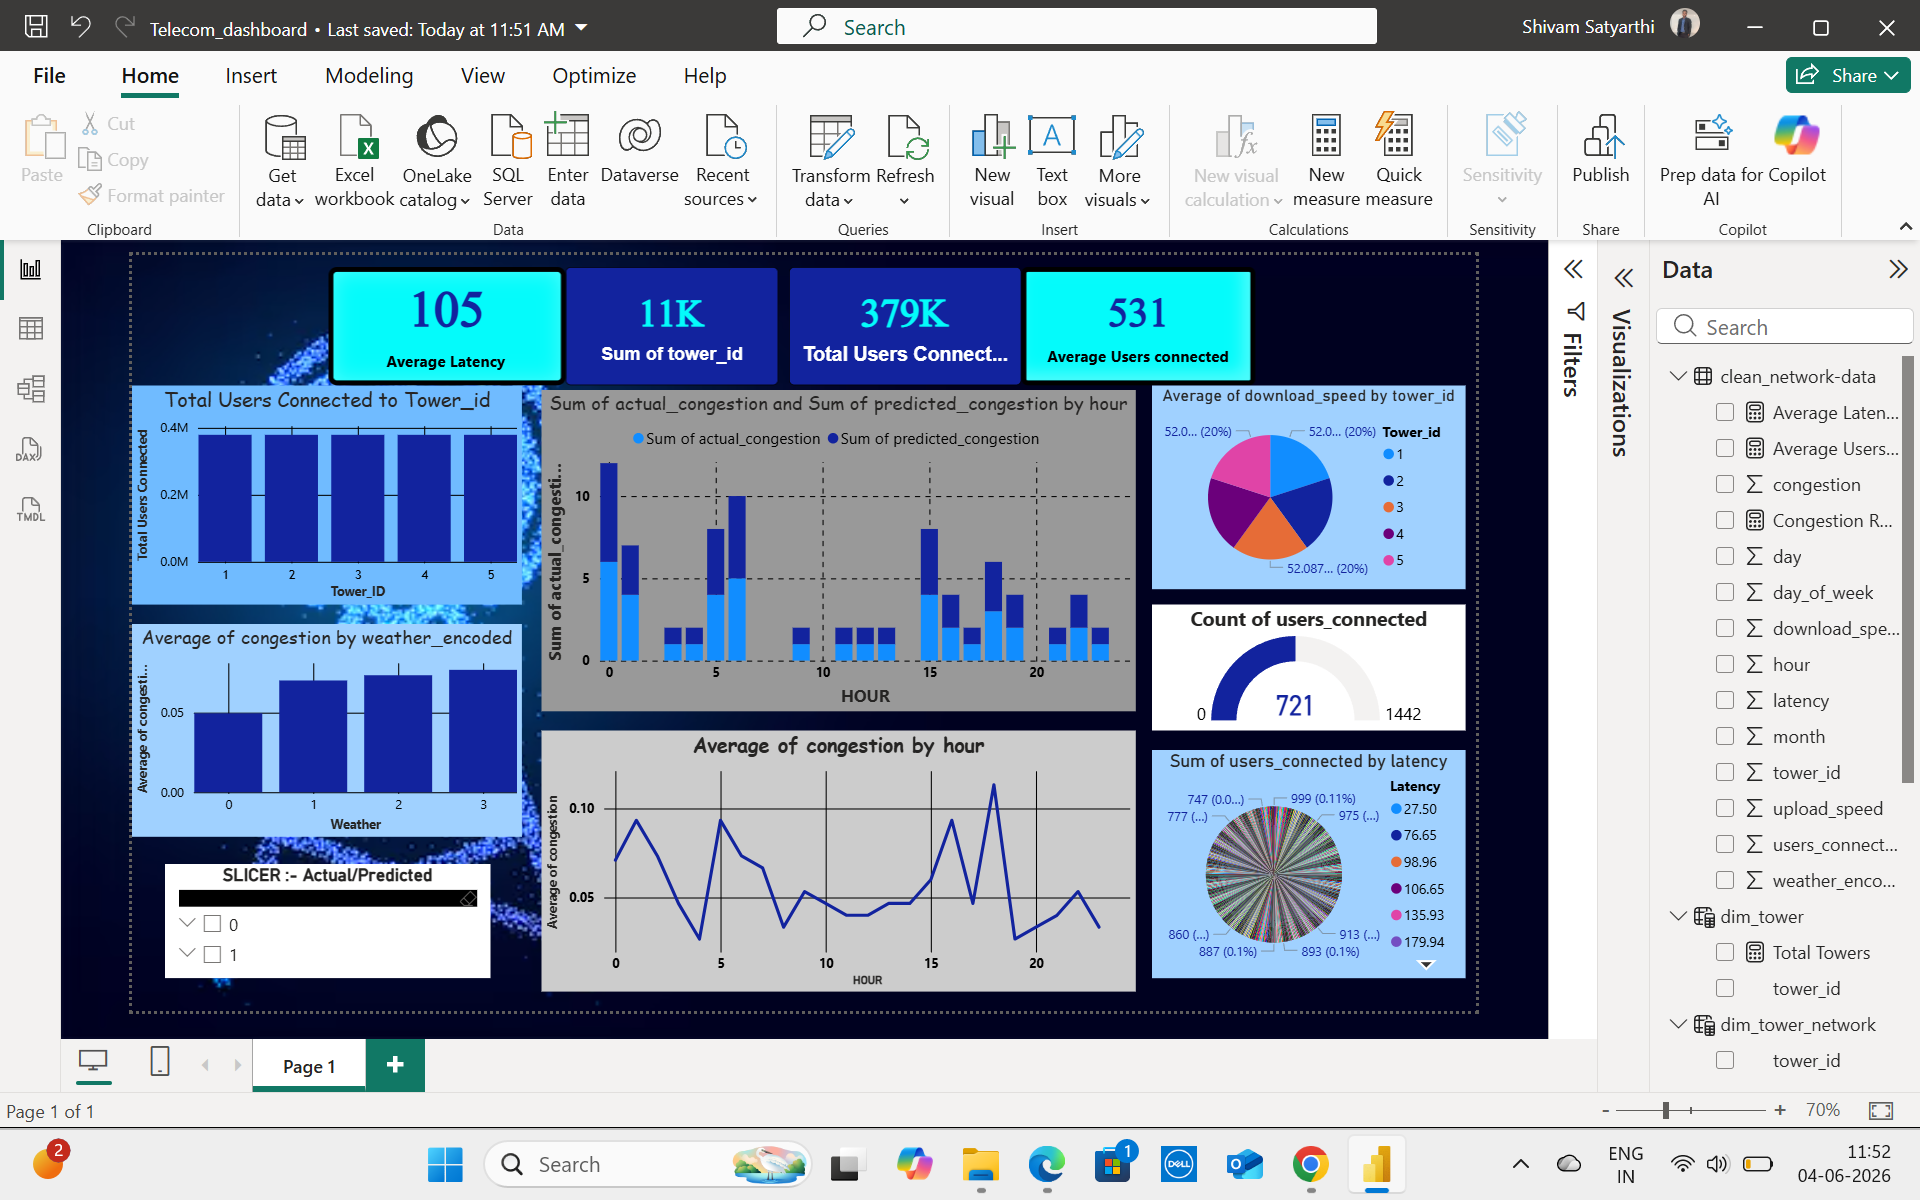

This screenshot's page, from the dashboard's own definition file:
{"tool":"powerbi","page":{"name":"Page 1","canvas":[1280,720],"ordinal":0},"visuals":[{"type":"advanceCardE03760C5AB684758B56AA29F9E6C257B","fields":{"mainMeasure":["Sum(clean_network-data.tower_id)"]},"box":[412.9,11.4,202.9,112.9],"z":0},{"type":"advanceCardE03760C5AB684758B56AA29F9E6C257B","fields":{"mainMeasure":["network_prediction.Total Users Connected"]},"box":[625.7,11.4,221.4,112.9],"z":1},{"type":"columnChart","title":"Total Users Connected to Tower_id","fields":{"Category":["dim_tower.tower_id"],"Y":["network_prediction.Total Users Connected"]},"box":[0,124.3,371.4,208.6],"z":2},{"type":"advanceCardE03760C5AB684758B56AA29F9E6C257B","fields":{"mainMeasure":["clean_network-data.Average Latency"]},"box":[187.1,11.4,225.7,112.9],"z":3},{"type":"advanceCardE03760C5AB684758B56AA29F9E6C257B","fields":{"mainMeasure":["clean_network-data.Average Users connected"]},"box":[847.1,11.4,222.9,112.9],"z":4},{"type":"lineStackedColumnComboChart","fields":{"Y":["Sum(network_prediction.actual_congestion)","Sum(network_prediction.predicted_congestion)"],"Category":["network_prediction.hour"]},"box":[390,128.6,565.7,305.7],"z":5},{"type":"pieChart","fields":{"Y":["Sum(clean_network-data.users_connected)"],"Category":["clean_network-data.latency"]},"box":[971.4,471.4,298.6,217.1],"z":6},{"type":"lineChart","fields":{"Category":["clean_network-data.hour"],"Y":["Avg(clean_network-data.congestion)"]},"box":[390,452.9,565.7,248.6],"z":7},{"type":"pieChart","fields":{"Category":["dim_tower.tower_id"],"Y":["Avg(clean_network-data.download_speed)"]},"box":[971.4,124.3,298.6,194.3],"z":8},{"type":"lineClusteredColumnComboChart","fields":{"Category":["clean_network-data.weather_encoded"],"Y":["Avg(clean_network-data.congestion)"]},"box":[0,351.4,371.4,202.9],"z":9},{"type":"slicer","title":"SLICER :- Actual/Predicted","fields":{"Values":["network_prediction.actual_congestion","network_prediction.predicted_congestion"]},"box":[31.4,580,310,108.6],"z":10},{"type":"gauge","fields":{"Y":["CountNonNull(network_prediction.users_connected)"]},"box":[971.4,332.9,298.6,120],"z":11}]}

Visuals, with their boxes on the page's 1280x720 design canvas (x1, y1, x2, y2). These are canvas units, not pixel positions in the 1920x1200 screenshot, which may show the page scaled, cropped or inside an application window:
advanceCardE03760C5AB684758B56AA29F9E6C257B - Sum(clean_network-data.tower_id): (413,11,616,124)
advanceCardE03760C5AB684758B56AA29F9E6C257B - network_prediction.Total Users Connected: (626,11,847,124)
"Total Users Connected to Tower_id" columnChart: (0,124,371,333)
advanceCardE03760C5AB684758B56AA29F9E6C257B - clean_network-data.Average Latency: (187,11,413,124)
advanceCardE03760C5AB684758B56AA29F9E6C257B - clean_network-data.Average Users connected: (847,11,1070,124)
lineStackedColumnComboChart - Sum(network_prediction.actual_congestion) x Sum(network_prediction.predicted_congestion): (390,129,956,434)
pieChart - Sum(clean_network-data.users_connected) x clean_network-data.latency: (971,471,1270,688)
lineChart - clean_network-data.hour x Avg(clean_network-data.congestion): (390,453,956,702)
pieChart - dim_tower.tower_id x Avg(clean_network-data.download_speed): (971,124,1270,319)
lineClusteredColumnComboChart - clean_network-data.weather_encoded x Avg(clean_network-data.congestion): (0,351,371,554)
"SLICER :- Actual/Predicted" slicer: (31,580,341,689)
gauge - CountNonNull(network_prediction.users_connected): (971,333,1270,453)
